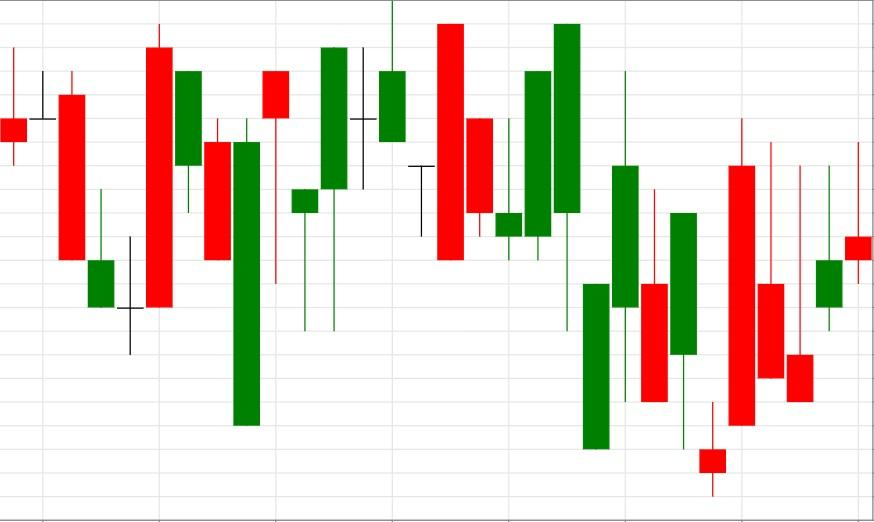morning_star_rise: (28, 22, 174, 356)
